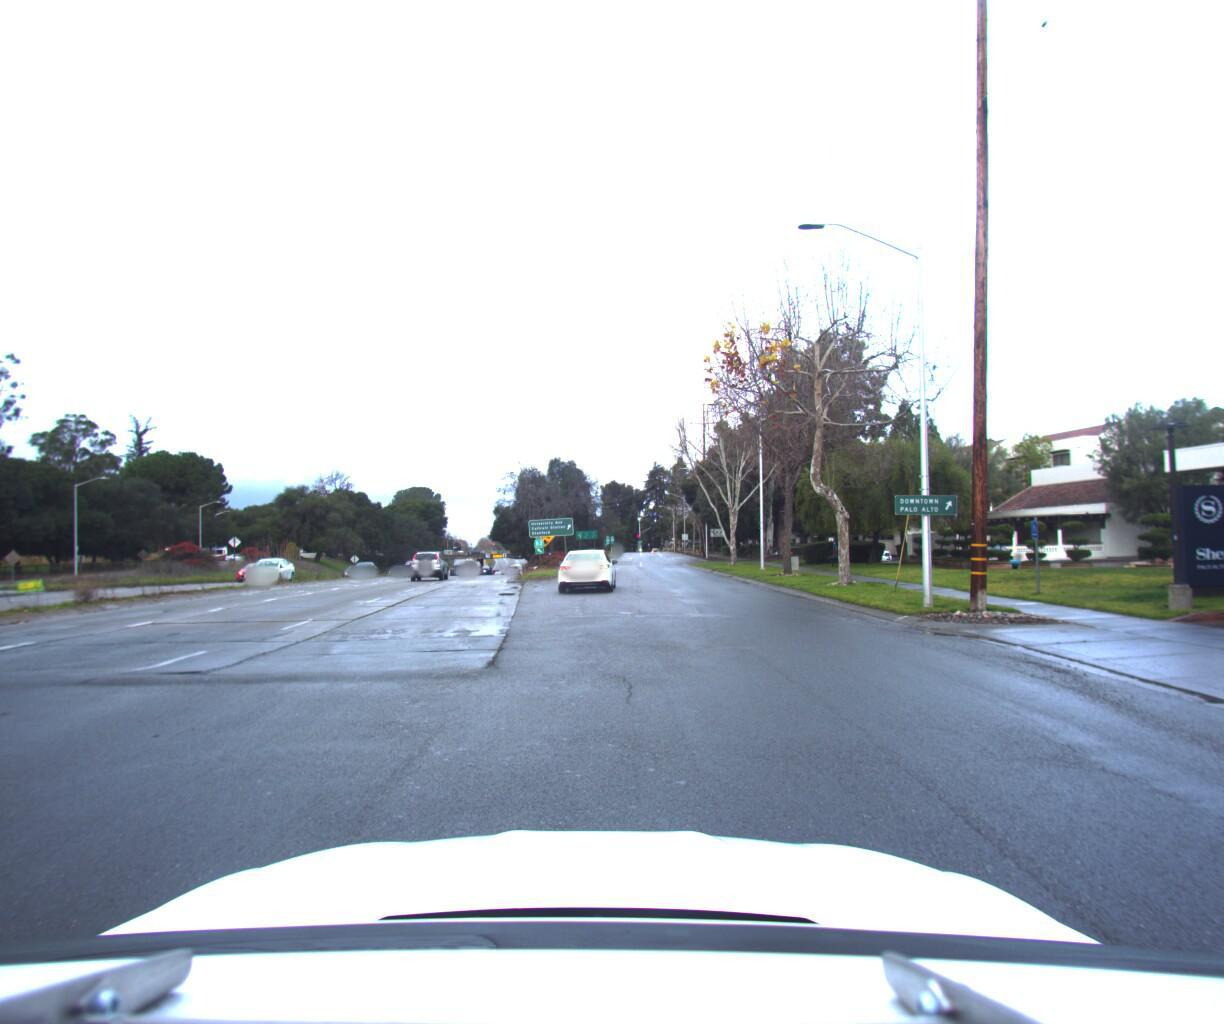car: (554, 546, 617, 593), (245, 557, 299, 586), (411, 547, 451, 580), (238, 556, 282, 579), (393, 554, 423, 577), (349, 552, 380, 571), (465, 555, 485, 571)
